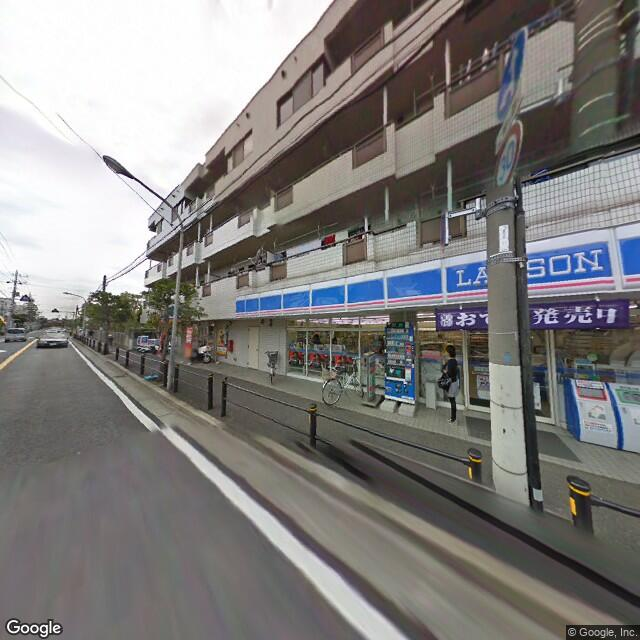lawson: (234, 219, 639, 322)
